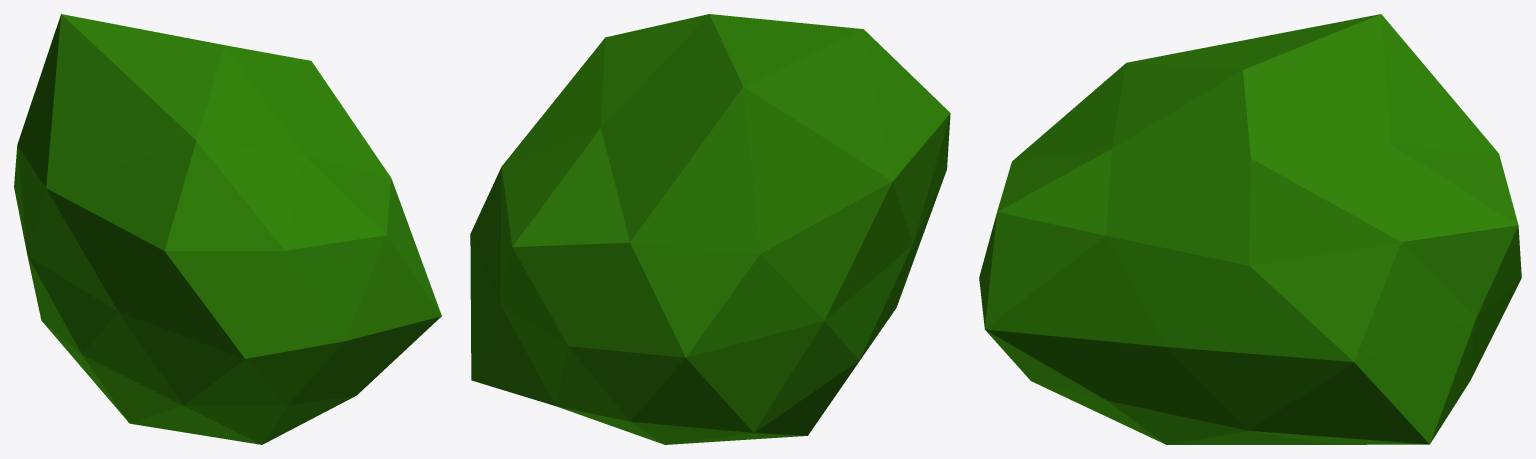
The model's file is кущ.glb.
3 views of the same model, side by side, from view 1: azimuth 30°, elevation 25°; view 2: azimuth 150°, elevation 25°; view 3: azimuth 270°, elevation 25° (orthographic). The views are drawn at different scales.
Parts seen in each view (by area): view 1: Iкосфера; view 2: Iкосфера; view 3: Iкосфера.
Part boxes in pixels (x1=…): Iкосфера: x1=14, y1=14, x2=441, y2=444; Iкосфера: x1=470, y1=14, x2=950, y2=444; Iкосфера: x1=979, y1=14, x2=1521, y2=444.
Bounding box in the file's own units: 5.4 × 5.59 × 7.24.
